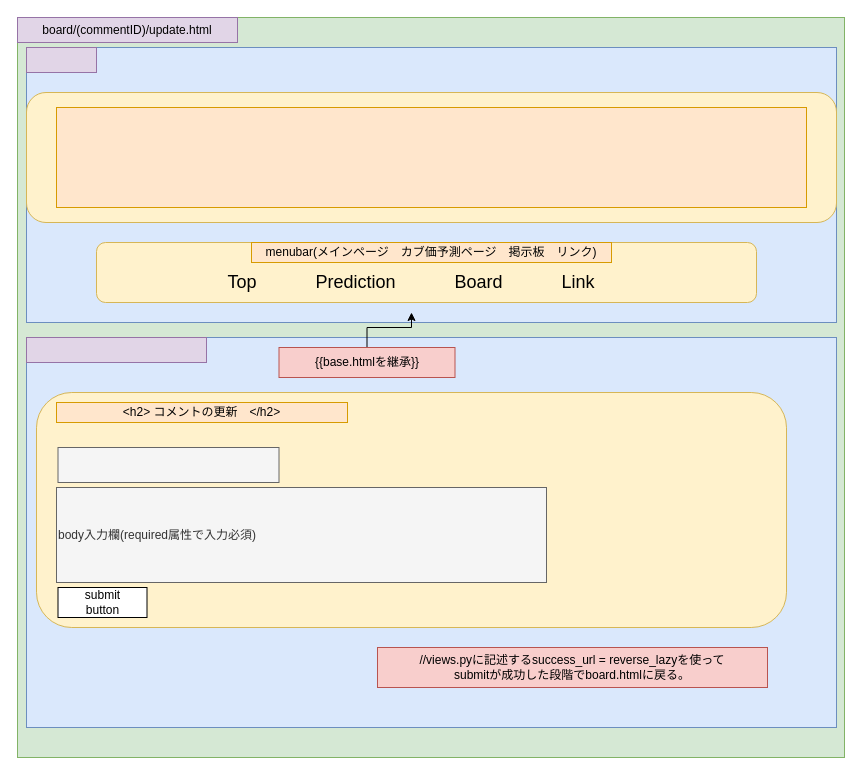
This 862x775 diagram has some shape labels left out. The centre of each missing label's shape, as x and y in pixels:
"<header> <h1> <a href=index> <img> メインページへのリンク付きトップバナー </a> </h1> </header>" goes at point (431, 157).
"base.html" goes at point (61, 59).
"comment_edit.html" goes at point (116, 349).
"title入力欄(required属性で入力必須)" goes at point (168, 464).
